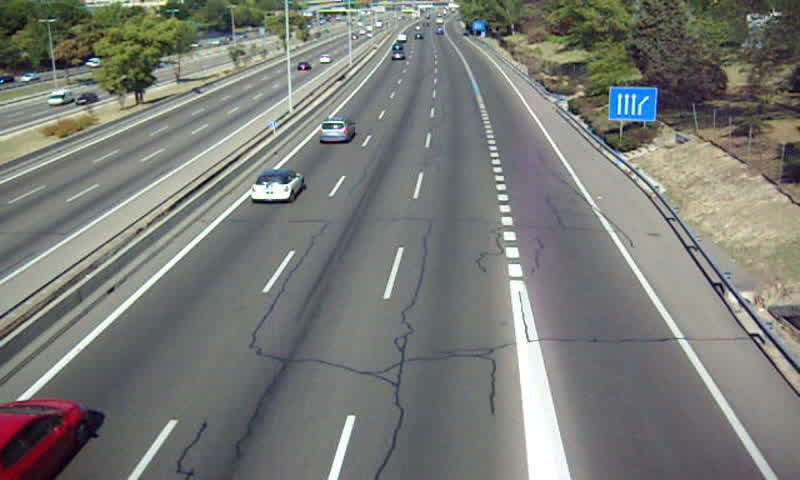car: (250, 170, 303, 204), (318, 118, 356, 143), (390, 51, 407, 62)
